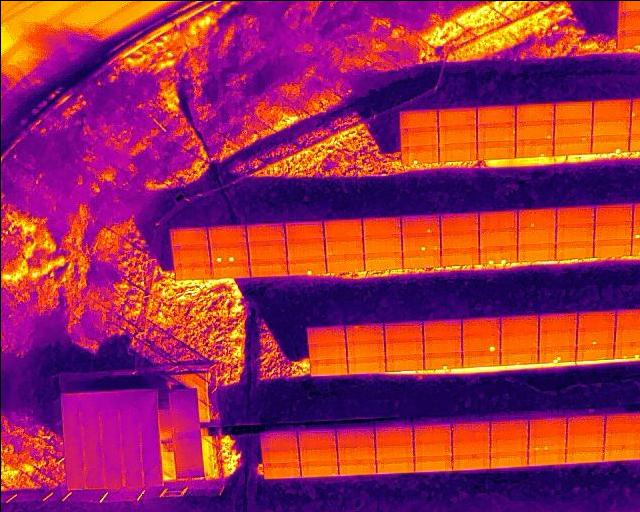Cell: (517, 208, 556, 228), (515, 119, 553, 138), (400, 214, 440, 232), (401, 144, 438, 163), (515, 139, 553, 156), (461, 334, 500, 350), (287, 258, 326, 274), (300, 460, 338, 476), (499, 348, 538, 363), (423, 352, 461, 367), (553, 137, 591, 152), (591, 135, 628, 150), (576, 330, 615, 344)
Cell-Multi: (401, 232, 441, 251), (479, 245, 517, 264), (208, 244, 248, 262), (537, 345, 574, 361), (527, 435, 565, 449), (614, 342, 640, 357)
No-Anomaly: (423, 319, 461, 340), (400, 125, 438, 145), (437, 106, 477, 125), (171, 244, 210, 263), (246, 224, 285, 243), (413, 424, 451, 443), (285, 223, 325, 241), (374, 426, 413, 444), (440, 247, 479, 265), (207, 227, 246, 245), (440, 229, 479, 247), (553, 118, 592, 136), (362, 234, 401, 252), (489, 420, 527, 438), (259, 431, 297, 449), (452, 452, 490, 470), (451, 421, 489, 439), (477, 104, 515, 122), (477, 123, 515, 141), (592, 100, 630, 118), (324, 220, 362, 238), (556, 223, 594, 241), (307, 341, 347, 358), (383, 322, 423, 339), (168, 227, 208, 244), (594, 221, 631, 239), (335, 428, 374, 445), (461, 317, 500, 334), (577, 312, 616, 329), (438, 125, 477, 142), (553, 101, 592, 118), (517, 243, 556, 260), (517, 228, 556, 245), (478, 228, 517, 245), (478, 210, 517, 227), (439, 212, 478, 229), (555, 206, 594, 223), (528, 418, 566, 435), (566, 415, 604, 432), (500, 331, 538, 348), (490, 450, 528, 467), (325, 254, 363, 271), (555, 241, 593, 258), (592, 118, 630, 135), (515, 102, 553, 119), (399, 108, 437, 125), (477, 141, 515, 158), (594, 204, 632, 221), (605, 414, 640, 432), (594, 238, 631, 255), (347, 355, 386, 371), (298, 445, 337, 461), (305, 326, 344, 342), (401, 251, 440, 267), (361, 218, 400, 234), (438, 143, 477, 159), (376, 457, 414, 473), (414, 455, 452, 471), (565, 447, 603, 463), (297, 430, 335, 446), (364, 252, 402, 268), (500, 315, 538, 331), (538, 313, 576, 329), (286, 242, 324, 258), (248, 243, 286, 259), (345, 340, 385, 355), (345, 325, 385, 340), (338, 458, 375, 474), (528, 449, 565, 465), (250, 260, 287, 276), (263, 462, 300, 478), (384, 339, 423, 354), (565, 432, 604, 447), (173, 263, 212, 278), (324, 238, 363, 253), (309, 359, 347, 374), (576, 344, 614, 359), (538, 330, 576, 345), (211, 262, 251, 276), (385, 354, 423, 368), (603, 445, 640, 459), (604, 431, 640, 445), (461, 351, 499, 364), (489, 437, 527, 450), (451, 439, 489, 452), (337, 445, 375, 458), (615, 310, 640, 329), (262, 449, 298, 462), (423, 340, 461, 352), (413, 443, 451, 455), (375, 444, 413, 456), (614, 329, 640, 342)
